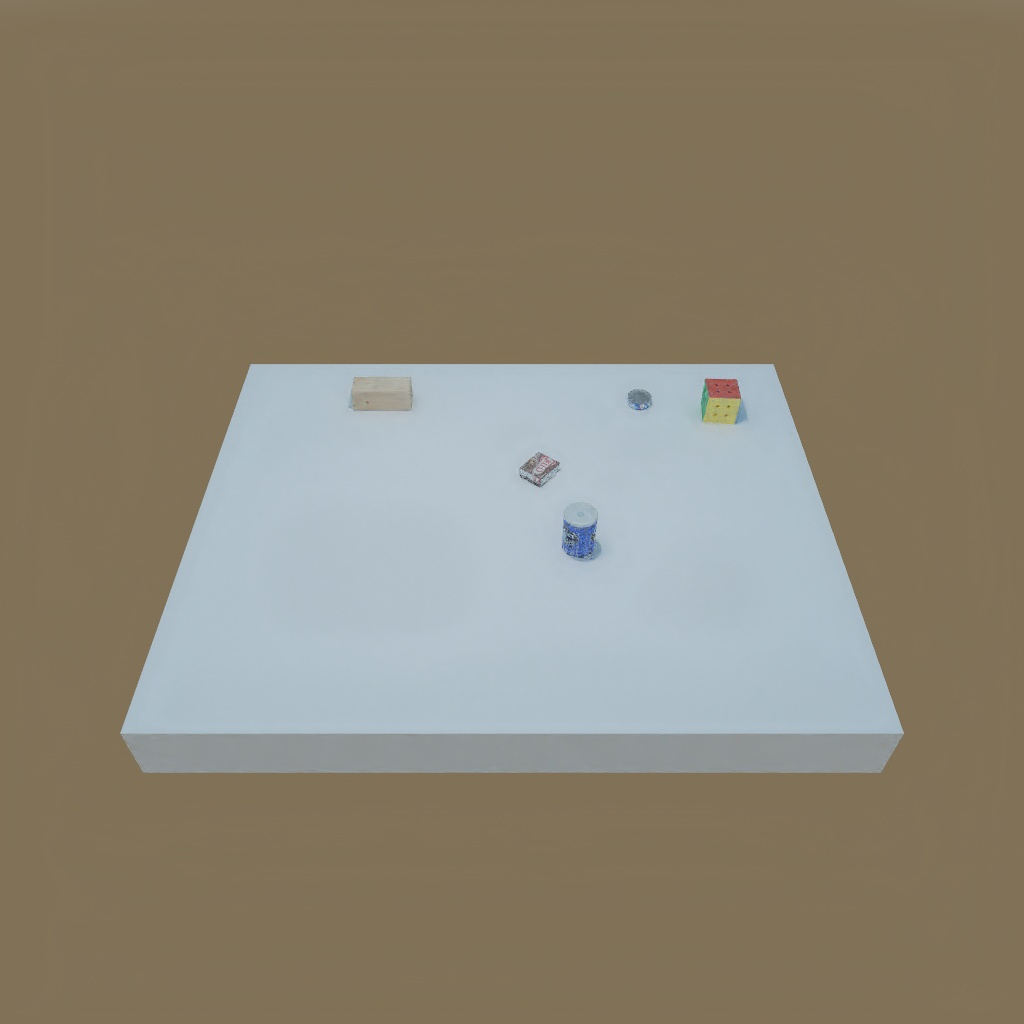master_chef_can: (558, 506, 601, 568)
pudding_box: (517, 445, 559, 486)
rubiks_cube: (697, 377, 746, 427)
wood_block: (351, 378, 414, 409)
